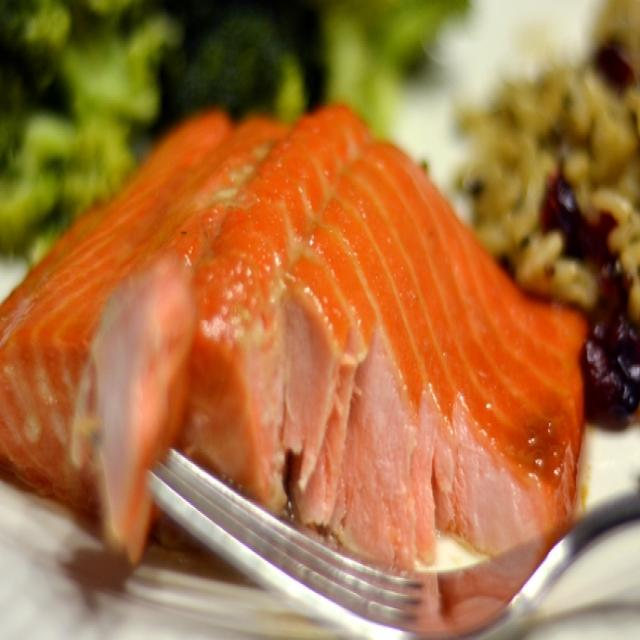熟制海鲜: (3, 64, 608, 626)
